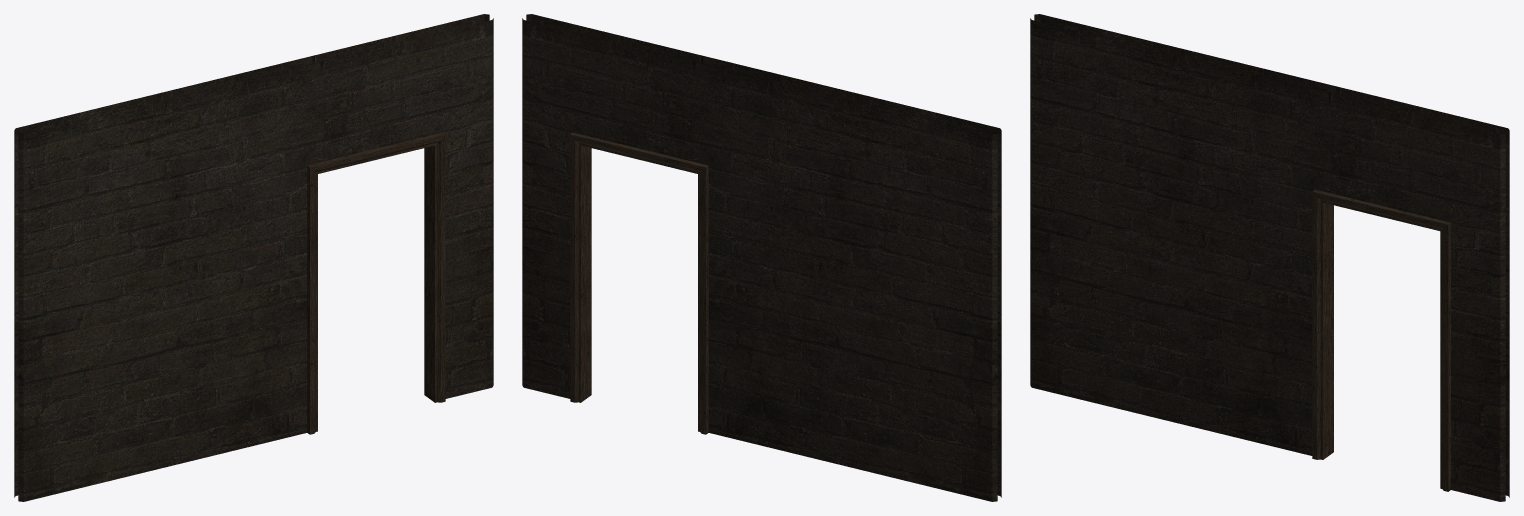
File: side_doorway_3.glb
The picture shows the model from 3 angles, left to right: view 1: azimuth 30°, elevation 25°; view 2: azimuth 150°, elevation 25°; view 3: azimuth 330°, elevation 25°; orthographic projection.
Parts seen in each view (by area): view 1: side_doorway_3; view 2: side_doorway_3; view 3: side_doorway_3.
Part boxes in pixels (x1,y1,x2,y2): side_doorway_3: (14, 14, 493, 501); side_doorway_3: (522, 14, 1001, 501); side_doorway_3: (1030, 14, 1509, 501).
Bounding box in the file's own units: 4.06 × 3 × 0.2.
Materials: 2 (2 with a texture image).
